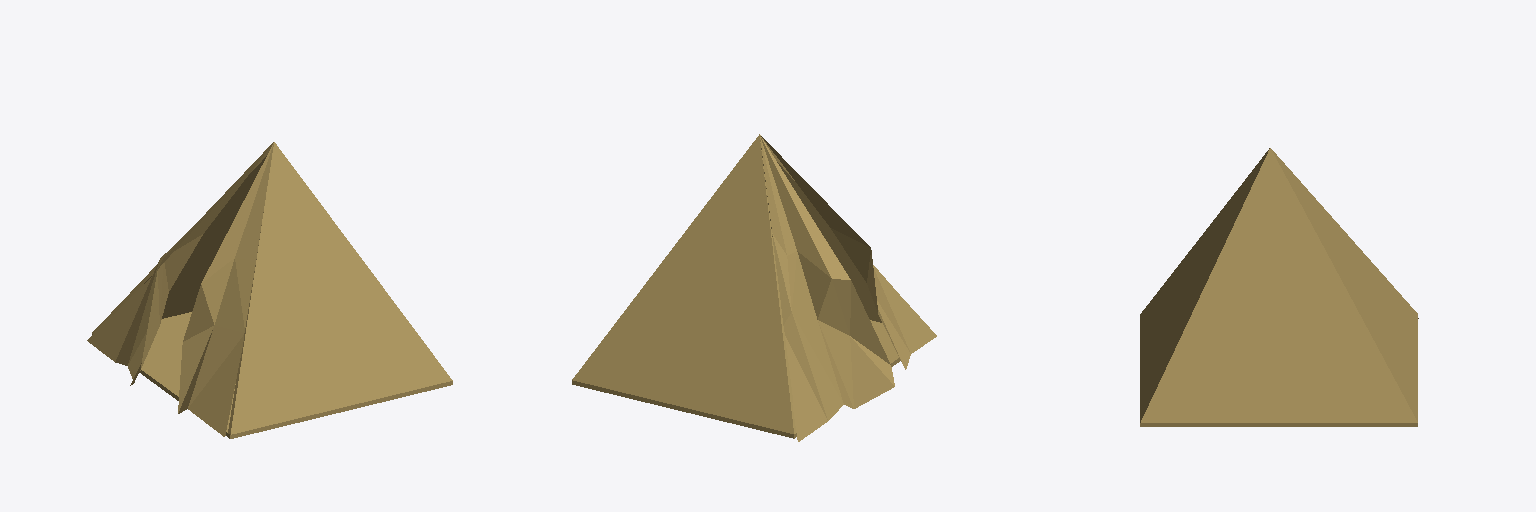
Rendered from tent.obj.
The picture shows the model from 3 angles: view 1: azimuth 30°, elevation 25°; view 2: azimuth 150°, elevation 25°; view 3: azimuth 270°, elevation 25°; orthographic projection.
Parts seen in each view (by area): view 1: tent; view 2: tent; view 3: tent.
Boxes of the visible parts, <box> form: tent: <box>87,142,452,438</box>; tent: <box>572,134,936,441</box>; tent: <box>1140,148,1418,426</box>.
Bounding box in the file's own units: 2.33 × 2.01 × 2.21.